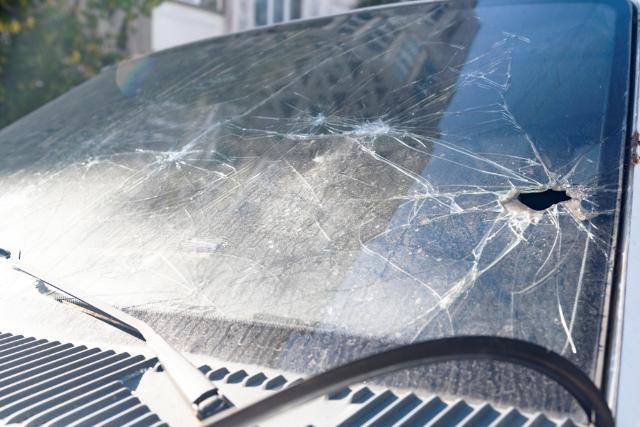glass shatter: (0, 0, 634, 425)
